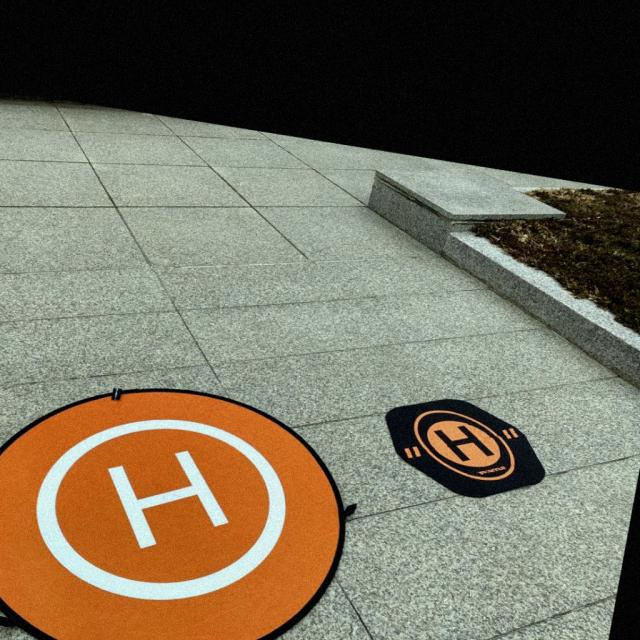helipad: (32, 414, 292, 606), (412, 406, 518, 484)
